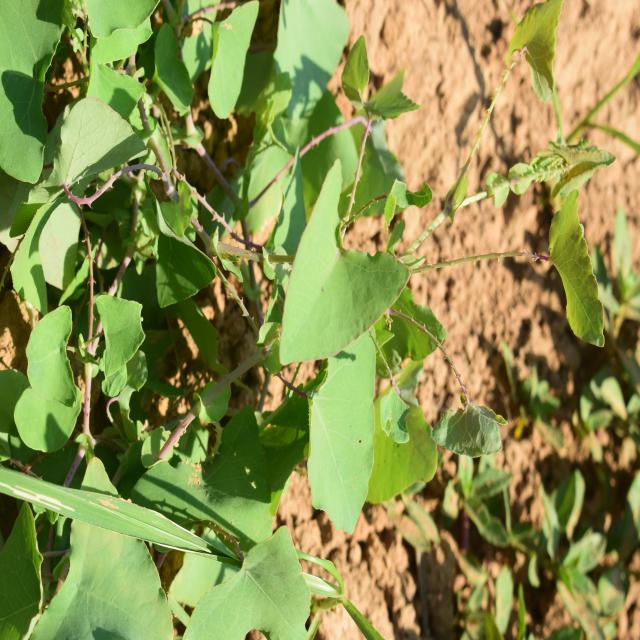Asiatic_Smartweed: (273, 166, 483, 524), (3, 61, 155, 445), (182, 513, 329, 640)
